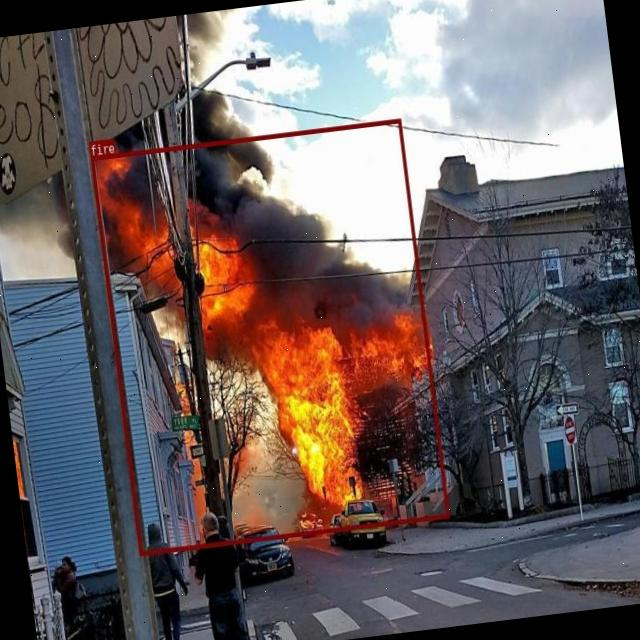fire: (90, 118, 449, 555)
